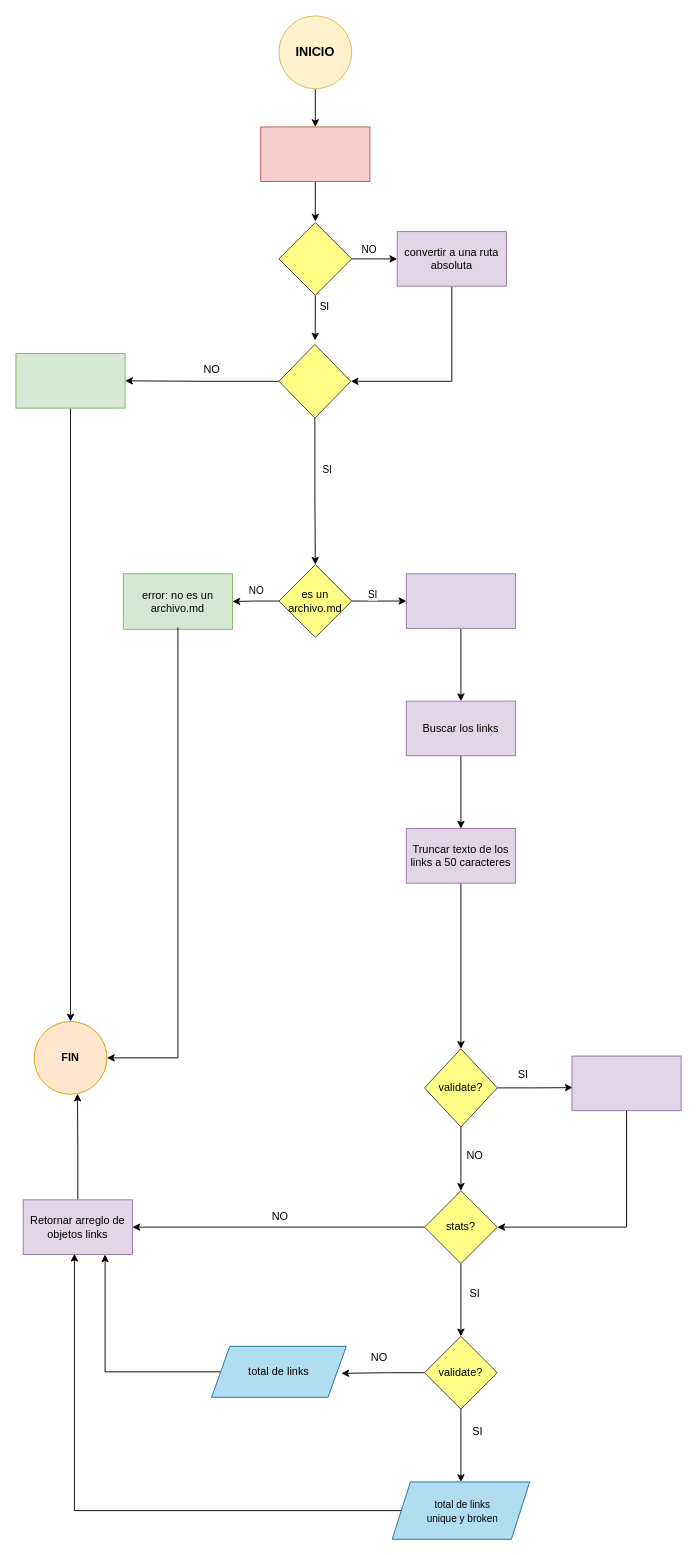
This 697x1555 diagram has some shape labels left out. The box of each missing label's shape, as (x1, y1, x2, y2) in pixels:
el archivo existe?: (278, 344, 351, 418)
es una ruta absoluta?: (278, 222, 352, 295)
Imprime "el archivo no existe": (15, 353, 125, 408)
Leer el archivo.md: (405, 573, 516, 628)
obtener path por parámetro: (260, 126, 370, 182)
validar links: (571, 1055, 681, 1111)
